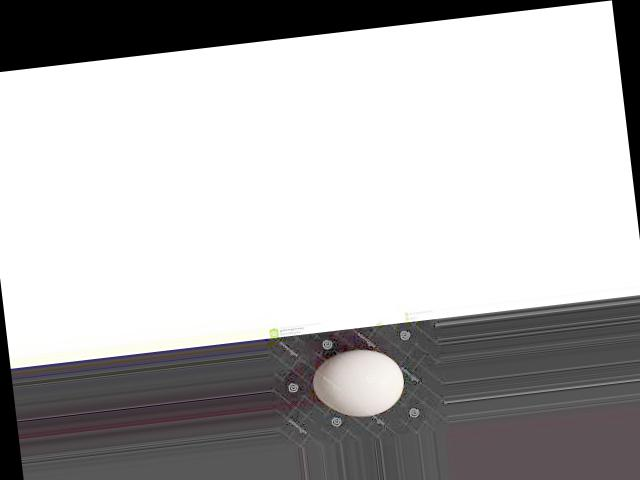egg: (309, 344, 408, 421)
